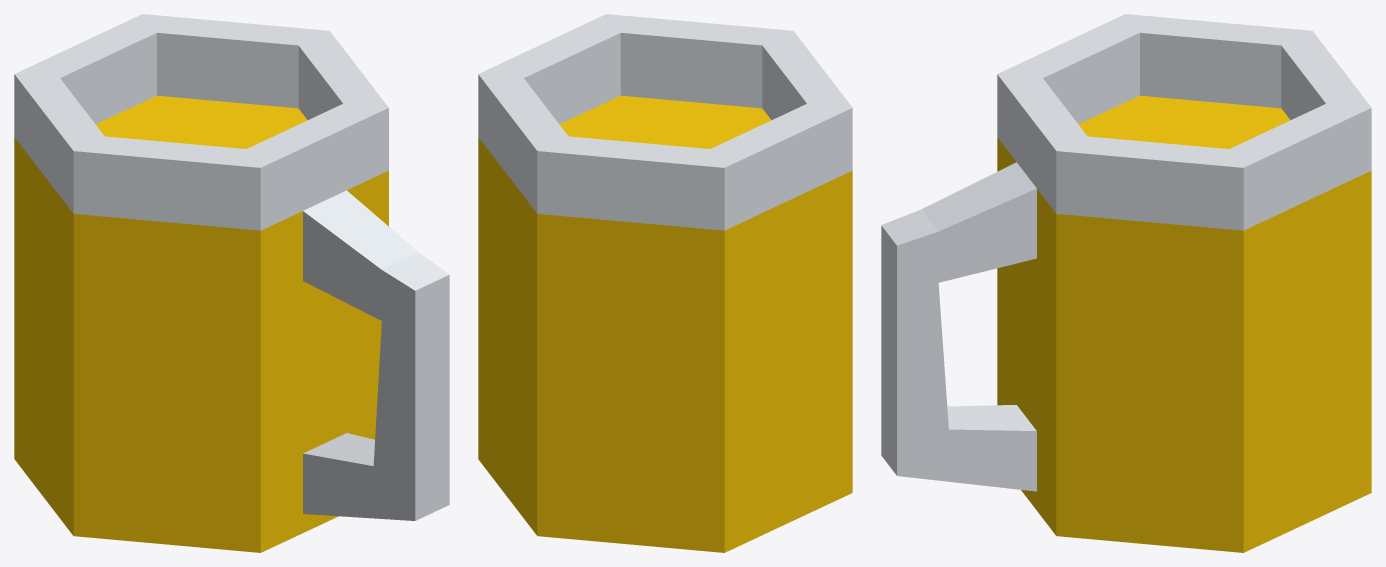
The model's file is Cup_beer.fbx.
The picture shows the model from 3 angles, left to right: view 1: azimuth 30°, elevation 25°; view 2: azimuth 150°, elevation 25°; view 3: azimuth 270°, elevation 25°; orthographic projection.
Parts seen in each view (by area): view 1: Cup_beer; view 2: Cup_beer; view 3: Cup_beer.
Boxes of the visible parts, x1,y1,x2,y2 form: Cup_beer: [14, 14, 449, 552]; Cup_beer: [478, 14, 852, 552]; Cup_beer: [881, 14, 1371, 552].
Bounding box in the file's own units: 20.07 × 23.41 × 27.03.
